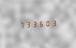seven: (17, 21, 23, 28)
six: (39, 19, 45, 27)
three: (24, 20, 30, 28), (32, 20, 38, 27), (53, 19, 59, 26)
zero: (46, 19, 52, 27)
